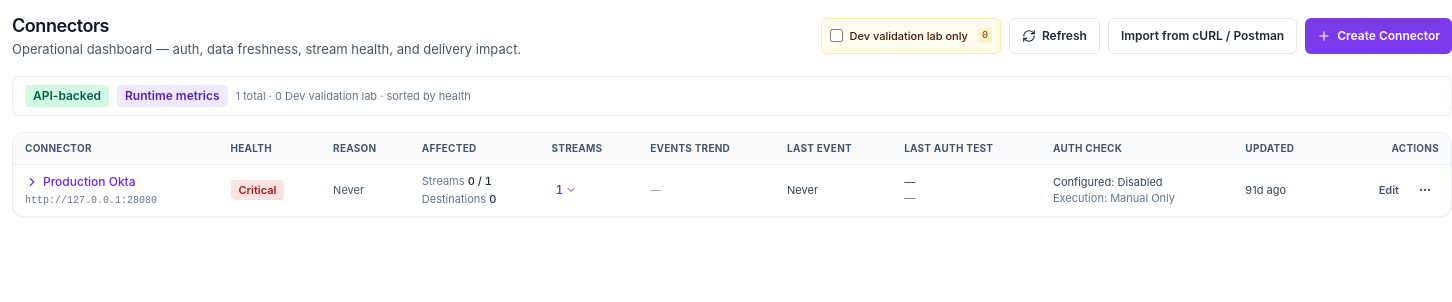
ConnectorsOverviewPage loading UX › keeps prior connector rows when refresh fails
Check: the button "Production Okta" is shown, box [25, 172, 136, 190]
Click the button "Refresh". click: {"x": 1054, "y": 36}
box: [1009, 18, 1100, 54]
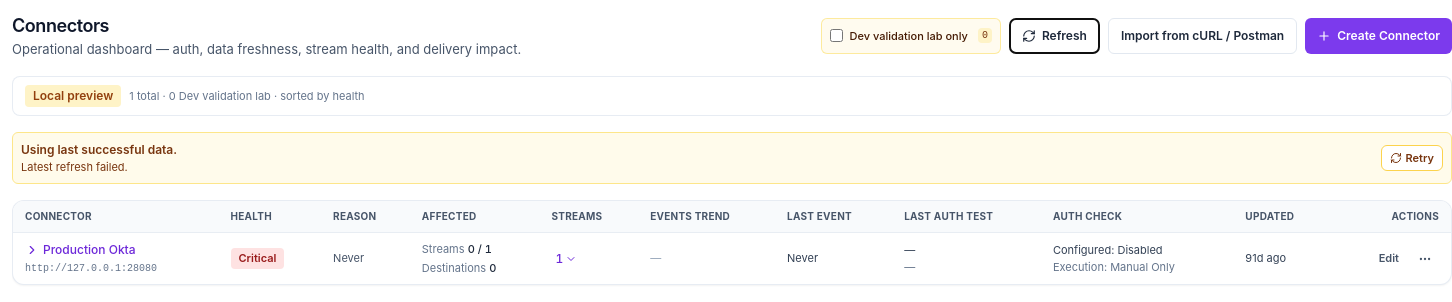
Check: the button "Production Okta" is shown, box [25, 241, 136, 259]
Check: the element with test id "connectors-stale-data-banner" is shown, box [12, 132, 1451, 184]
Check: the text "Using last successful data." is shown, box [21, 140, 177, 158]
